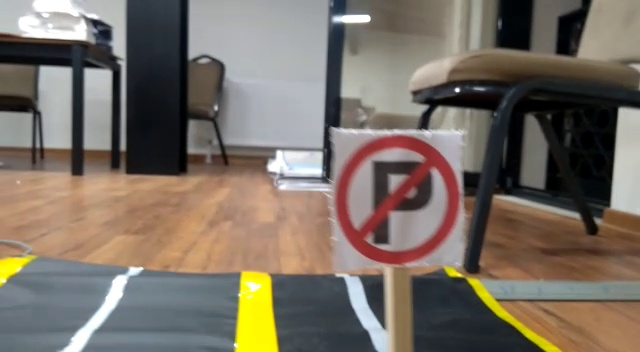park_yapilmaz: (332, 127, 462, 265)
